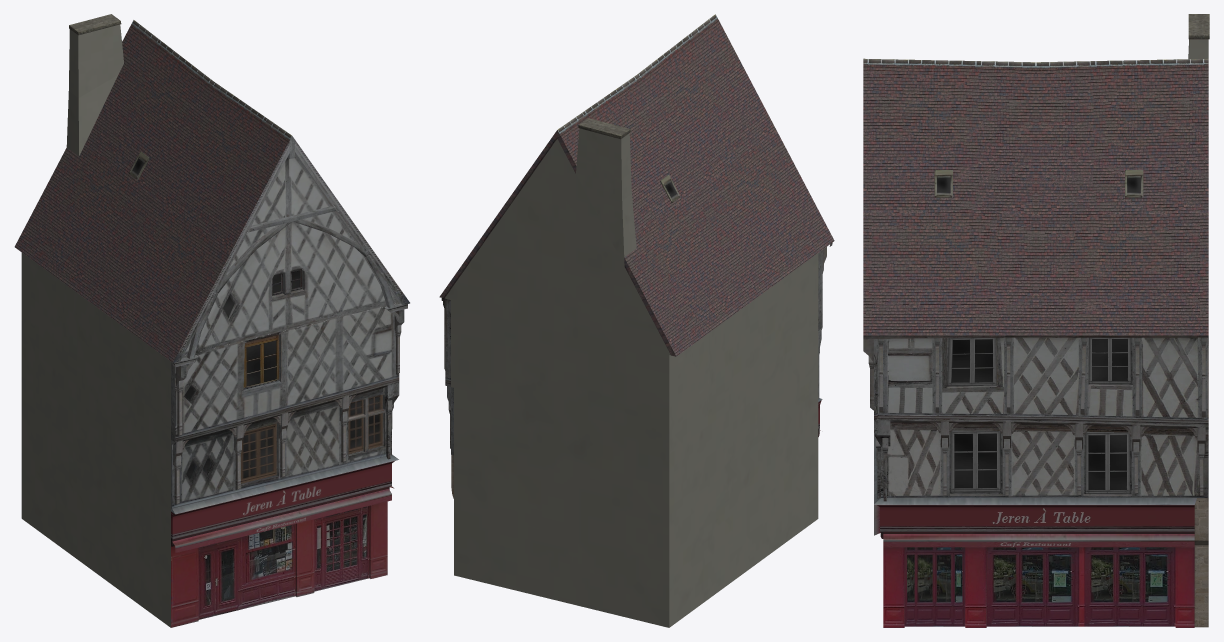
Rendered from maison_bourges_colombages_angle.glb.
The picture shows the model from 3 angles, left to right: view 1: azimuth 30°, elevation 25°; view 2: azimuth 150°, elevation 25°; view 3: azimuth 270°, elevation 25°; orthographic projection. The views are drawn at different scales.
Visible parts, largest first — view 1: maison_bourges_colombages_angle; view 2: maison_bourges_colombages_angle; view 3: maison_bourges_colombages_angle.
Part boxes in pixels (x1,y1,x2,y2): maison_bourges_colombages_angle: (14,14,409,627); maison_bourges_colombages_angle: (439,14,834,627); maison_bourges_colombages_angle: (863,14,1209,627).
Size of the model in its own units: 8.48 by 16.45 by 9.83.
Materials: 1 (1 with a texture image).
